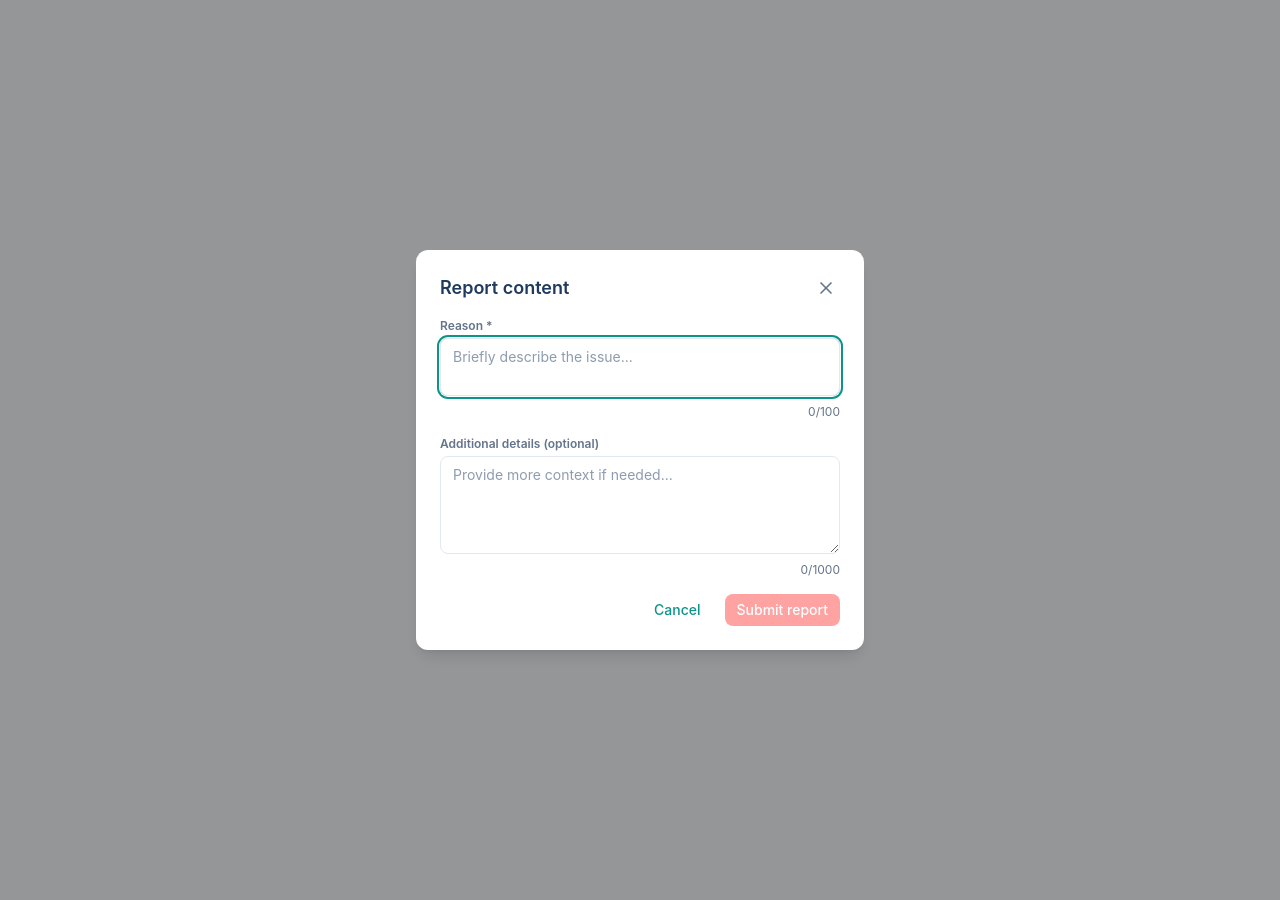
ReportDialog submission › shows success state after successful submission
This screenshot has width=1280, height=900.
Type "Spam content" into the text box labelled "Reason *" at (640, 367), box x1=440 y1=338 x2=840 y2=396
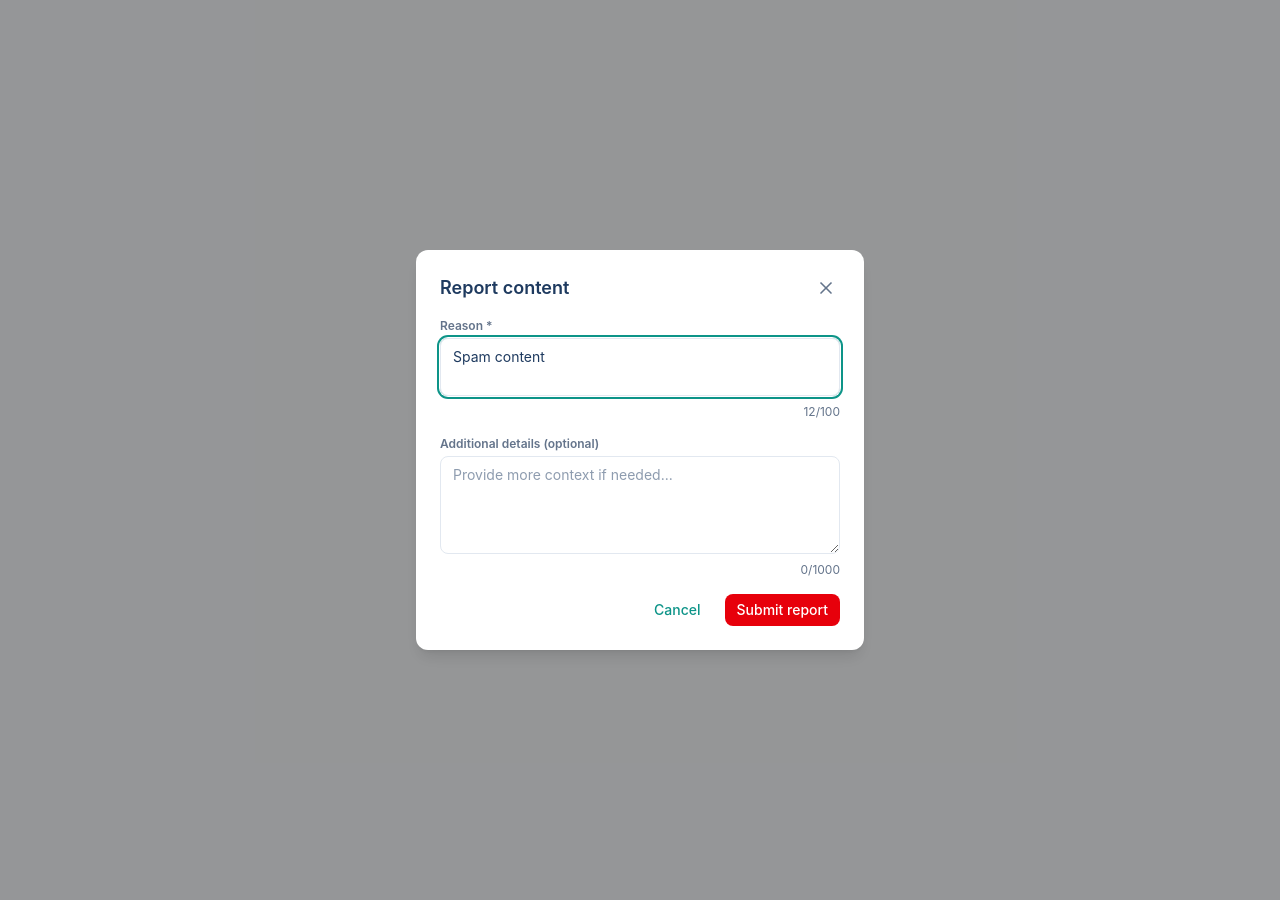
Click the button "Submit report" at (782, 610), box x1=724 y1=594 x2=840 y2=626
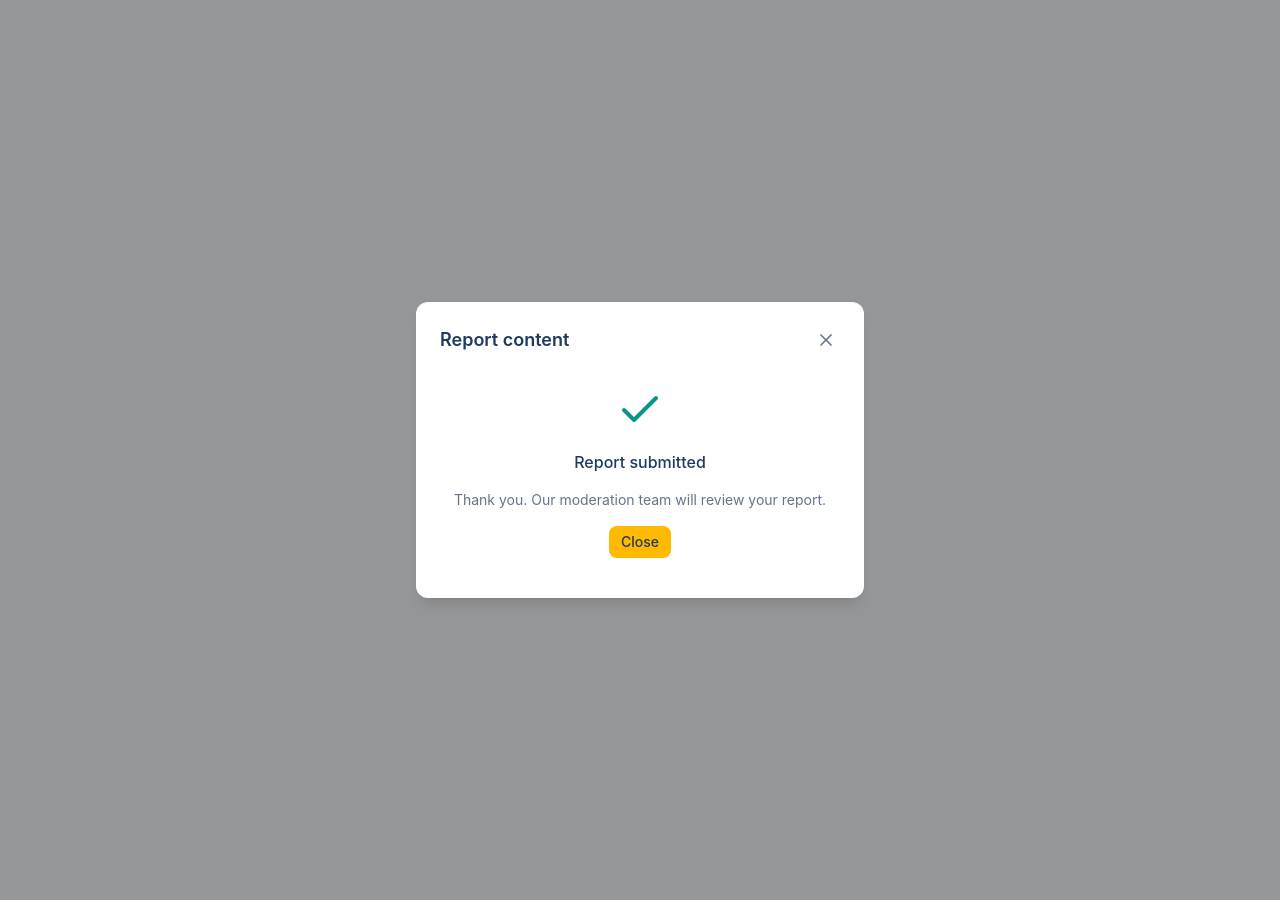
Now the text "Report submitted" is shown, box x1=574 y1=450 x2=706 y2=474
